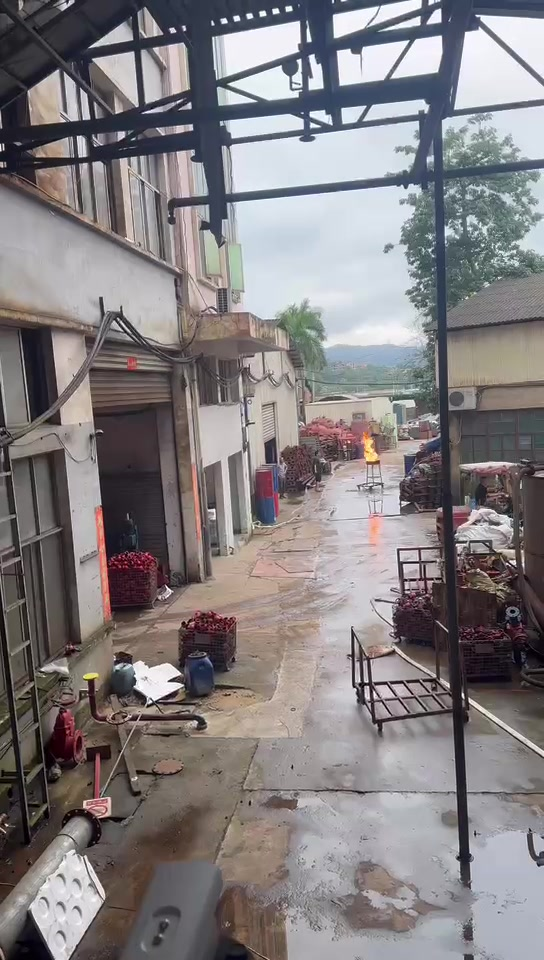fire: (362, 432, 379, 461)
